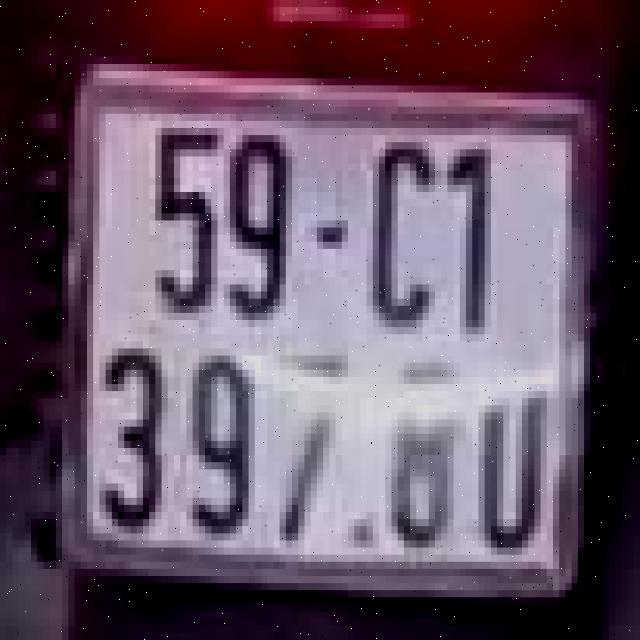0: (482, 348, 556, 562)
1: (444, 132, 506, 352)
3: (90, 345, 177, 537)
5: (143, 114, 224, 327)
7: (267, 327, 367, 562)
8: (370, 334, 469, 562)
9: (177, 342, 258, 548), (221, 114, 295, 327)
C: (364, 124, 438, 330)
